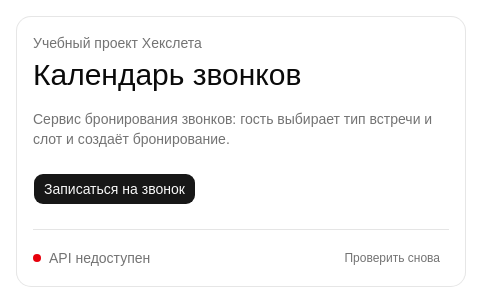
Test: HomePage › повторяет проверку по кнопке
The image size is (483, 304).
Expected: the text "API недоступен" is shown, [33, 248, 150, 268]
Click the button "Проверить снова" at [392, 258], box [335, 246, 449, 270]
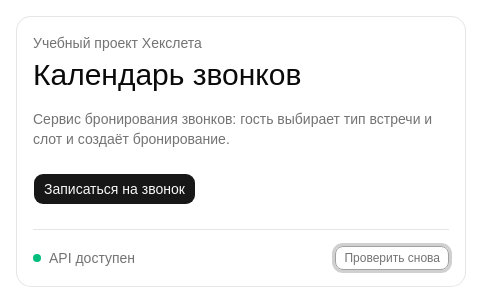
Expected: the text "API доступен" is shown, [33, 248, 135, 268]
